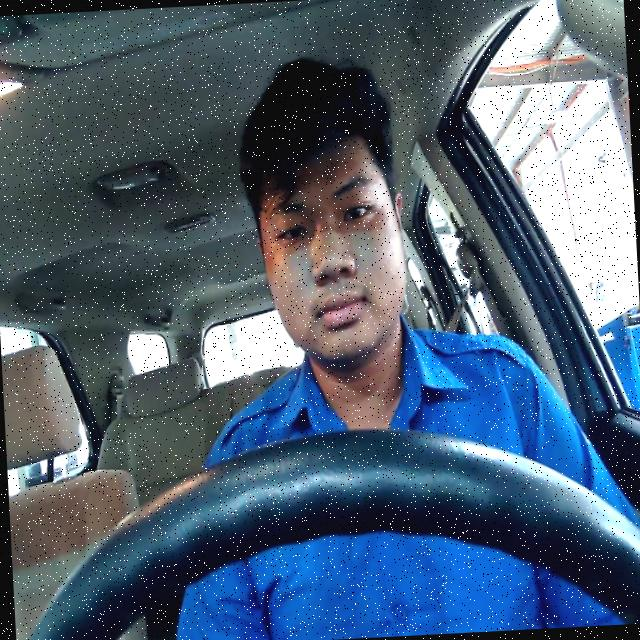focused: (250, 137, 411, 368)
